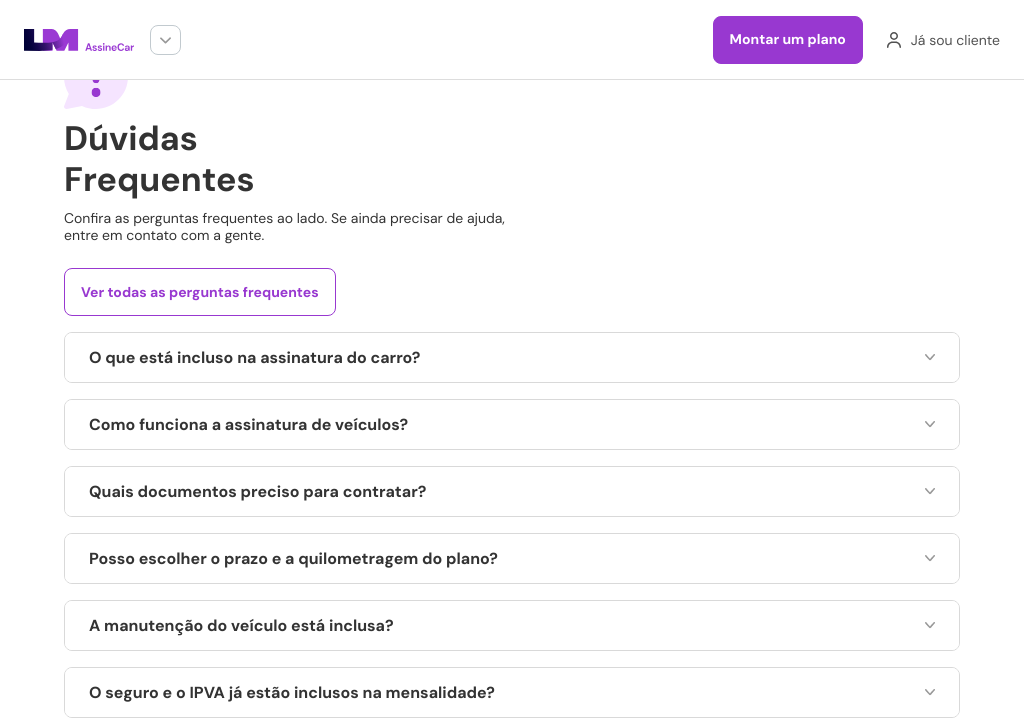
Test: LandingPage › abre uma resposta do FAQ ao clicar na pergunta
(page scrolled)
Click the button "Como funciona a assinatura de veículos?" at (248, 424), box [65,400,959,449]
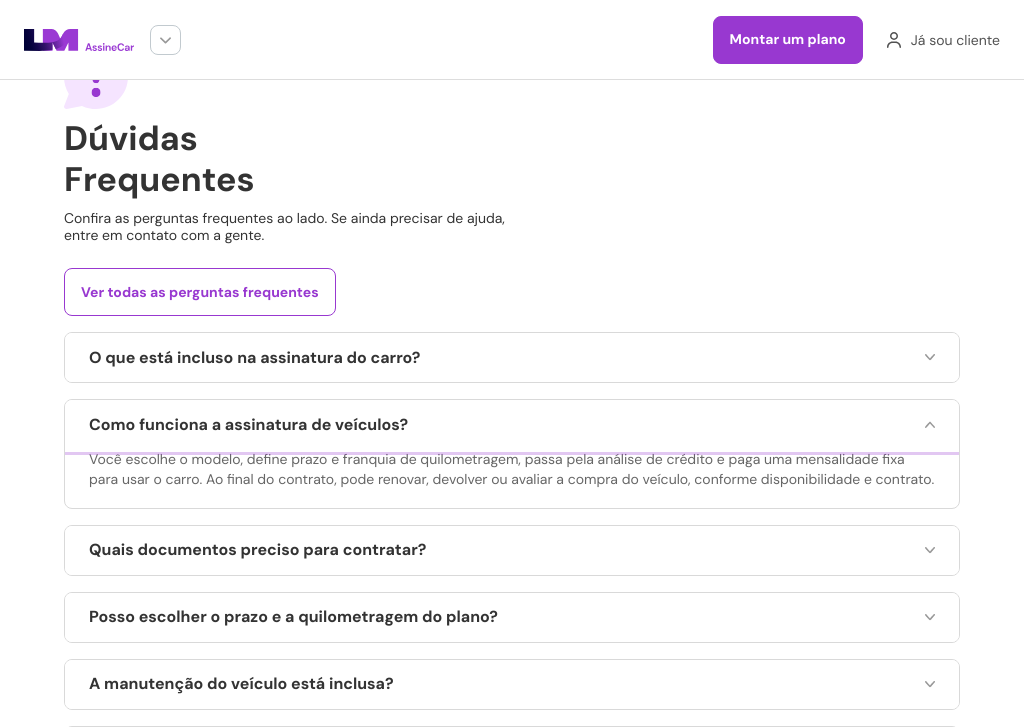
expect the text "define prazo e franquia de quilometragem" is shown: met, box [89,450,934,488]
